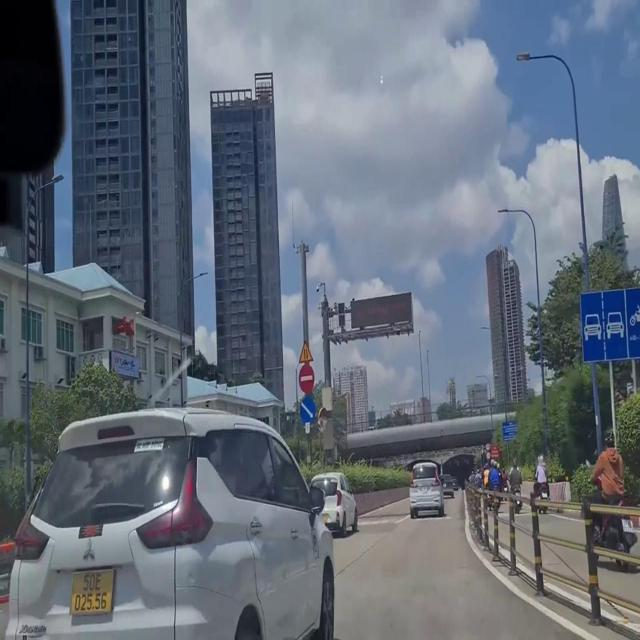Cấm đi ngược chiều: (298, 361, 316, 392)
Hướng phải đi vòng sang phải: (296, 395, 317, 424)
Khác: (500, 415, 521, 442)
Làn đường cho từng xe: (576, 277, 637, 367)
Đường hẹp: (297, 338, 318, 363)
